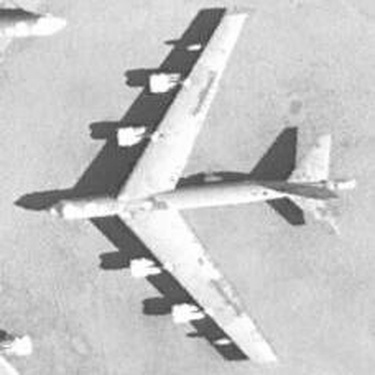airplane: (22, 4, 364, 366), (1, 1, 80, 79)
